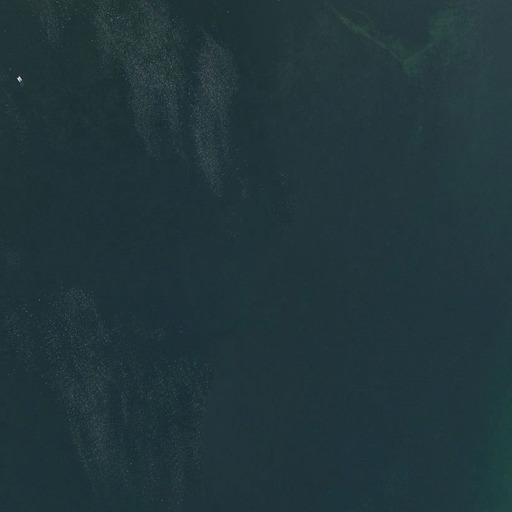ship: (16, 75, 23, 84)
